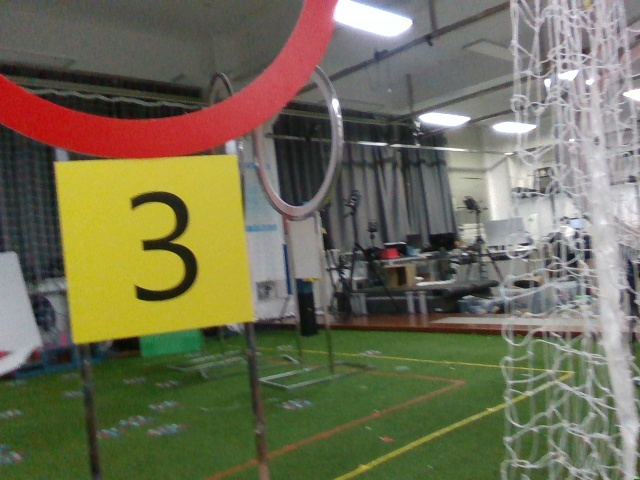target: (71, 163, 240, 325)
